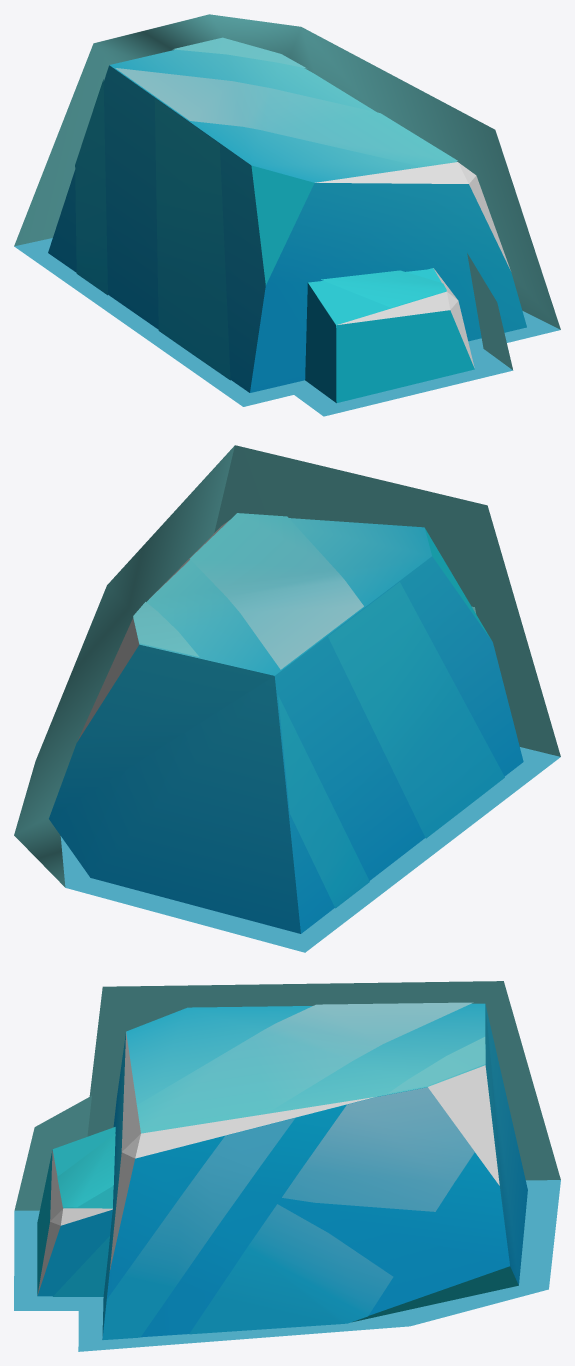
File: LabIceBlock.glb
3 views of the same model, one above another, from view 1: azimuth 30°, elevation 25°; view 2: azimuth 150°, elevation 25°; view 3: azimuth 270°, elevation 25° (orthographic). The views are drawn at different scales.
Parts seen in each view (by area): view 1: LabIceBlock; view 2: LabIceBlock; view 3: LabIceBlock.
Boxes of the visible parts, box(x1,y1,x2,y2) form: LabIceBlock: box(14, 14, 560, 416); LabIceBlock: box(14, 445, 560, 952); LabIceBlock: box(14, 981, 560, 1351).
Bounding box in the file's own units: 1.59 × 0.98 × 2.14.
